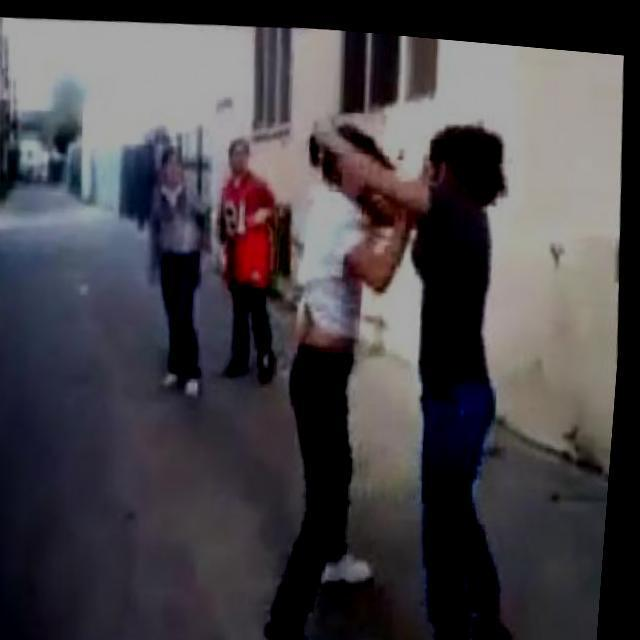fight: (258, 87, 532, 640)
